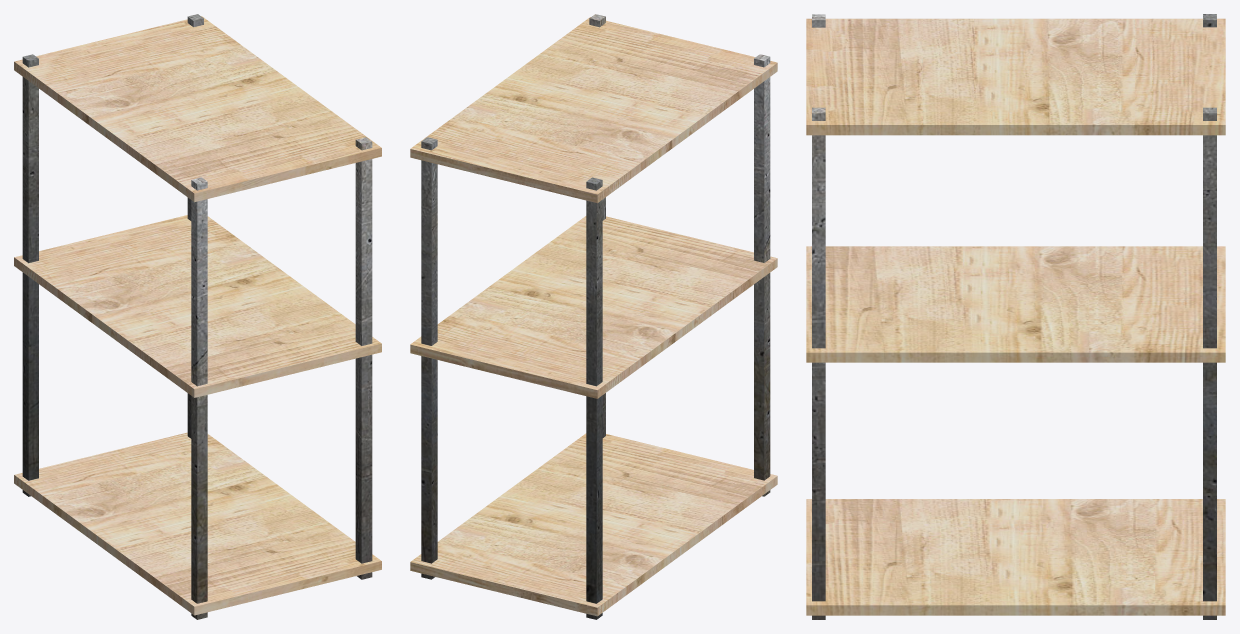
Rendered from Estanteria.FBX.
The picture shows the model from 3 angles, left to right: view 1: azimuth 30°, elevation 25°; view 2: azimuth 150°, elevation 25°; view 3: azimuth 270°, elevation 25°; orthographic projection. The views are drawn at different scales.
Parts seen in each view (by area): view 1: Box007; view 2: Box007; view 3: Box007.
Part boxes in pixels (x1,y1,x2,y2): Box007: (14,14,381,619); Box007: (410,14,777,619); Box007: (806,14,1225,619).
Bounding box in the file's own units: 90 × 200 × 150.
